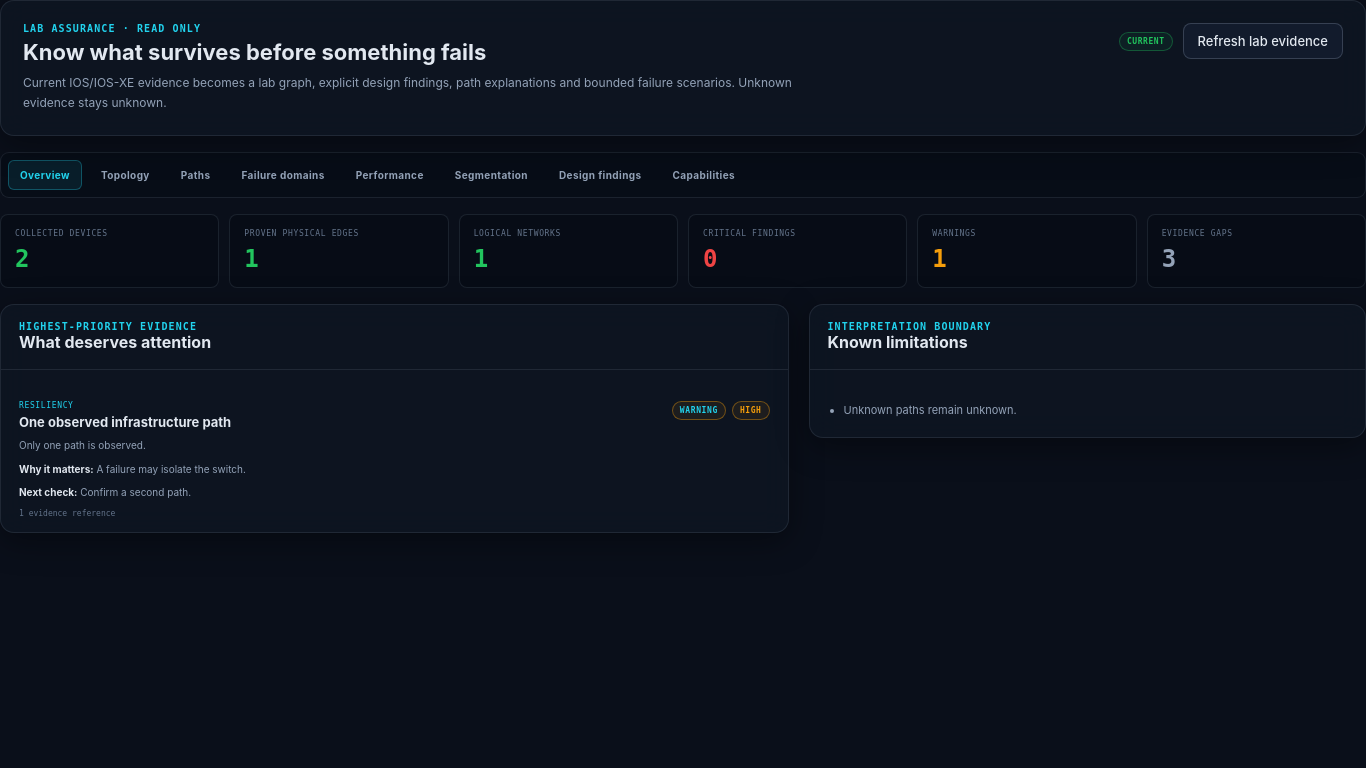
Test: Lab Assurance › presents one coherent tabbed feature without a health score
This screenshot has width=1366, height=768.
Expected: the heading "Know what survives before something fails" is shown, x1=23 y1=39 x2=486 y2=65
Expected: the button "Failure domains" is shown, x1=230 y1=160 x2=337 y2=190
Click the button "Topology" at (125, 175), box x1=89 y1=160 x2=162 y2=190
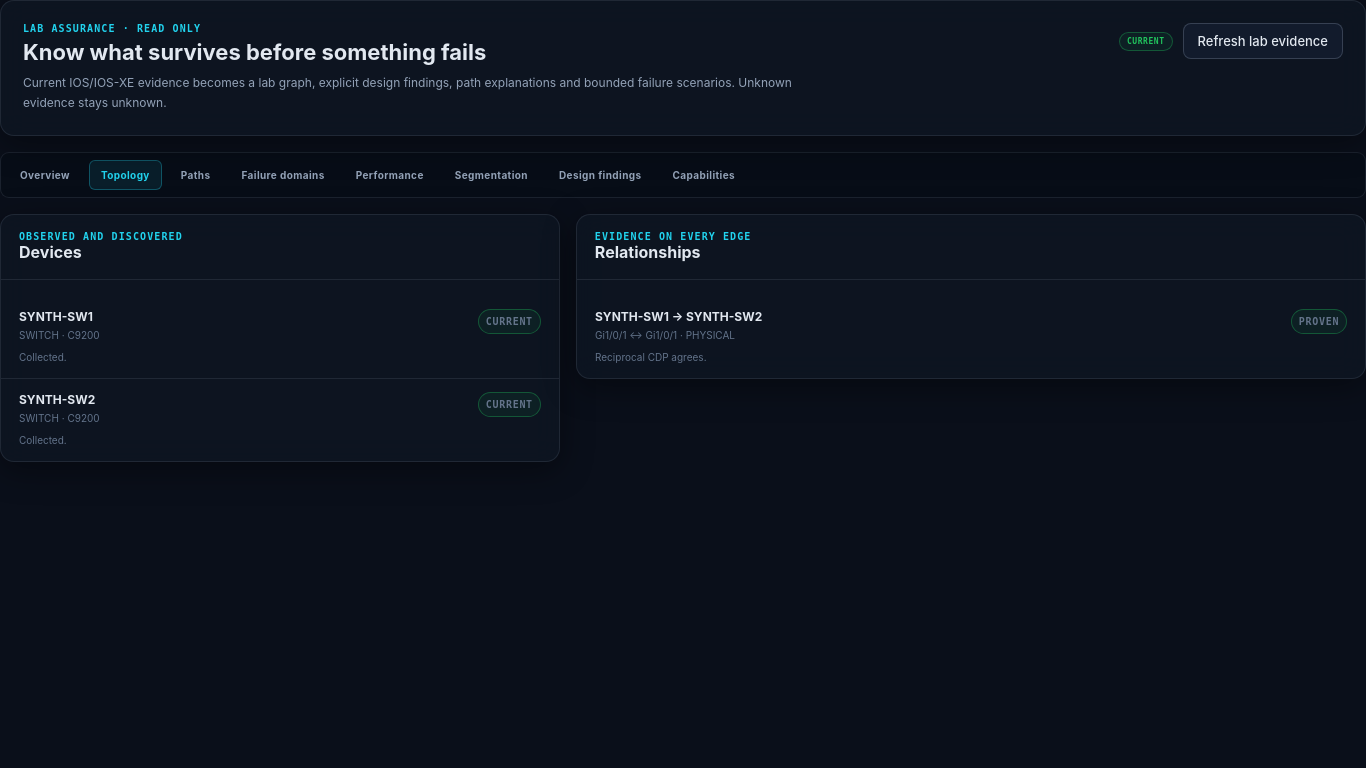
Result: the text "SYNTH-SW1" is shown at x1=19 y1=309 x2=93 y2=324
Result: the text "Reciprocal CDP agrees." is shown at x1=595 y1=351 x2=706 y2=363
Click the button "Segmentation" at (491, 175), box x1=443 y1=160 x2=540 y2=190
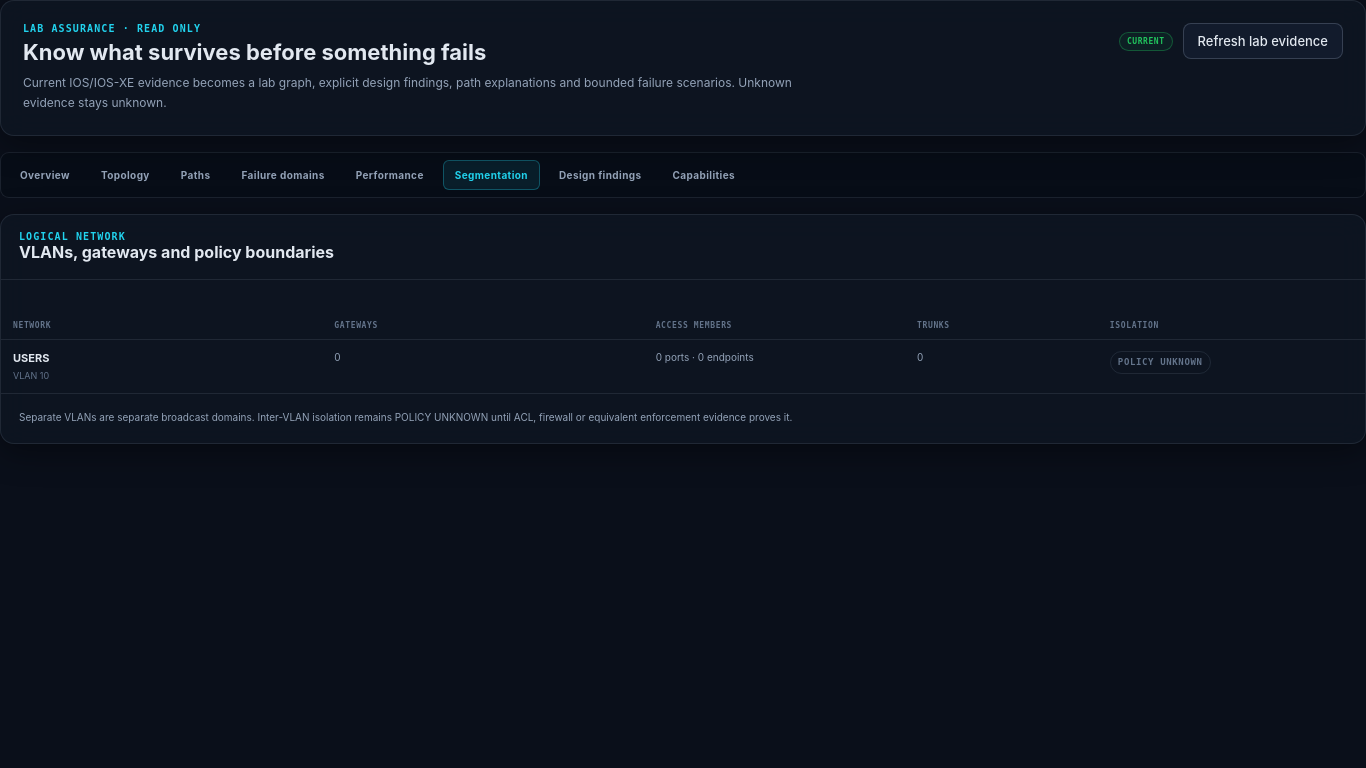
Result: the text "POLICY UNKNOWN" is shown at x1=1110 y1=351 x2=1210 y2=374
Result: the text "Separate VLANs are separate broadcast domains" is shown at x1=19 y1=411 x2=792 y2=423
